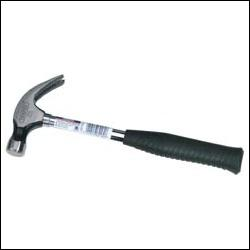hammer: (4, 70, 245, 176)
